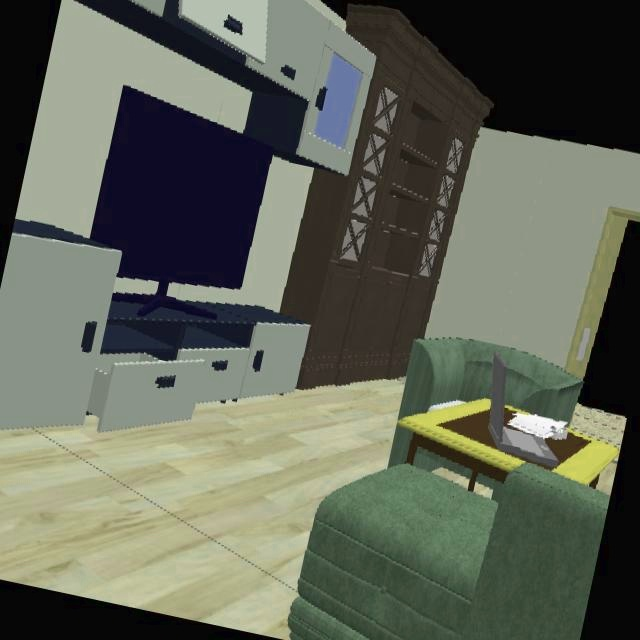book: (504, 407, 566, 449)
bookshelf: (291, 5, 492, 389)
cabinet: (0, 221, 310, 434), (69, 0, 376, 176)
laptop: (487, 354, 559, 469)
monitor: (88, 86, 276, 299)
sofa: (285, 462, 610, 640), (398, 339, 582, 437)
table: (387, 399, 525, 492), (545, 433, 619, 486)
